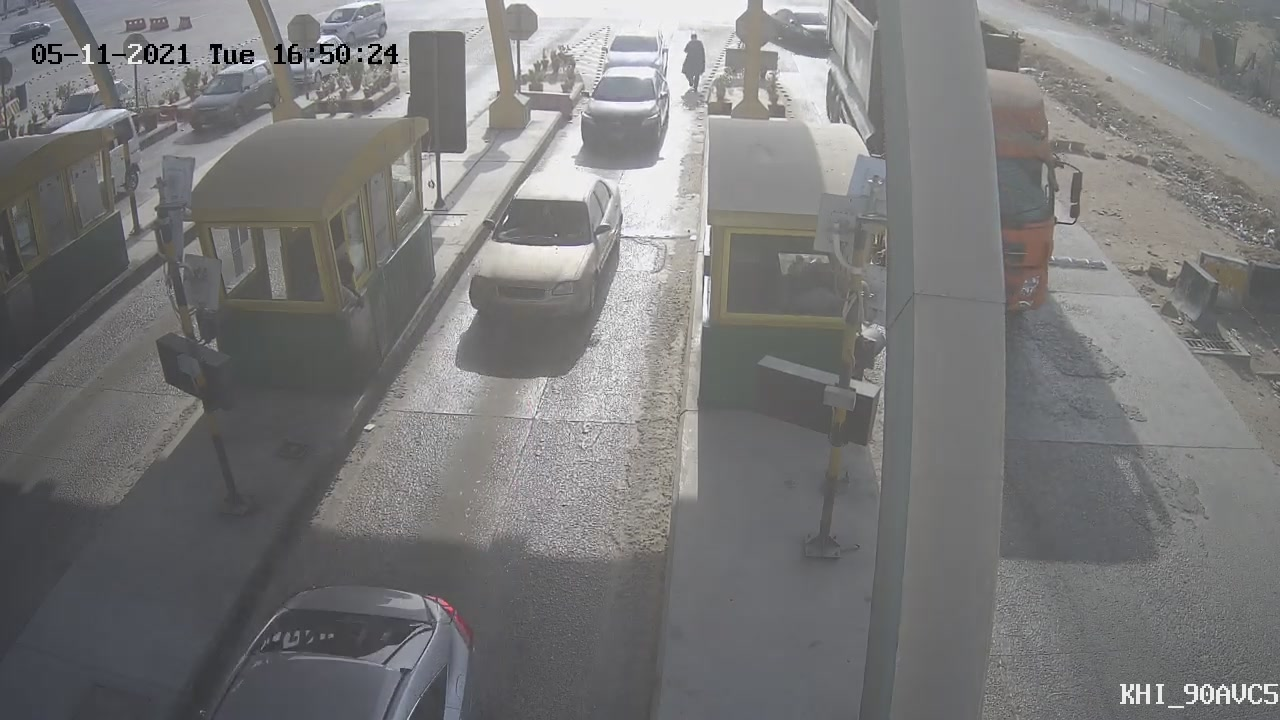F1: (448, 155, 650, 343), (559, 55, 690, 169)
